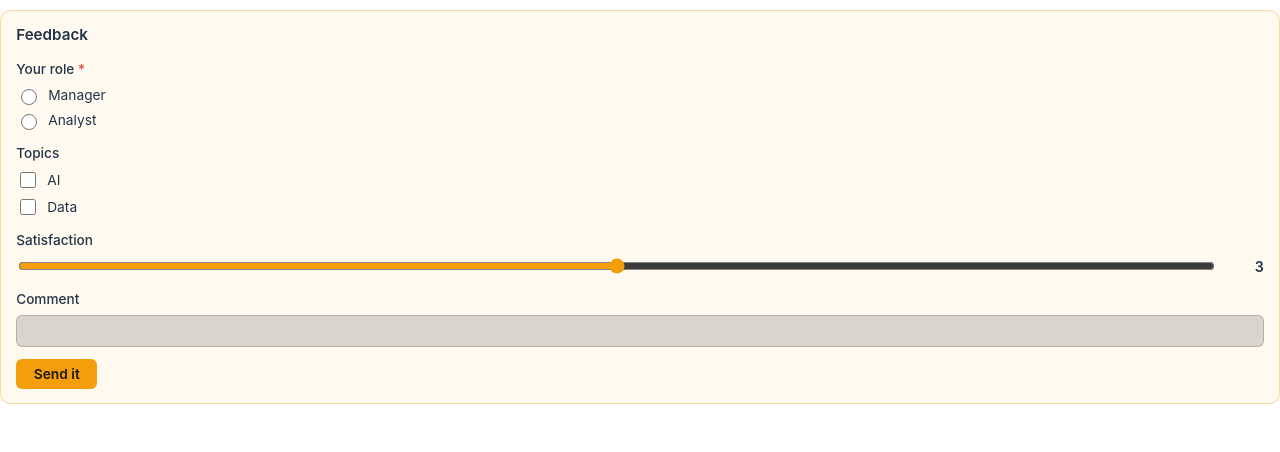
Test: CollectionForm › blocks submit and shows hint when a required field is unanswered
This screenshot has width=1280, height=452.
Click the button "Send it": [57, 374] box [16, 359, 97, 389]
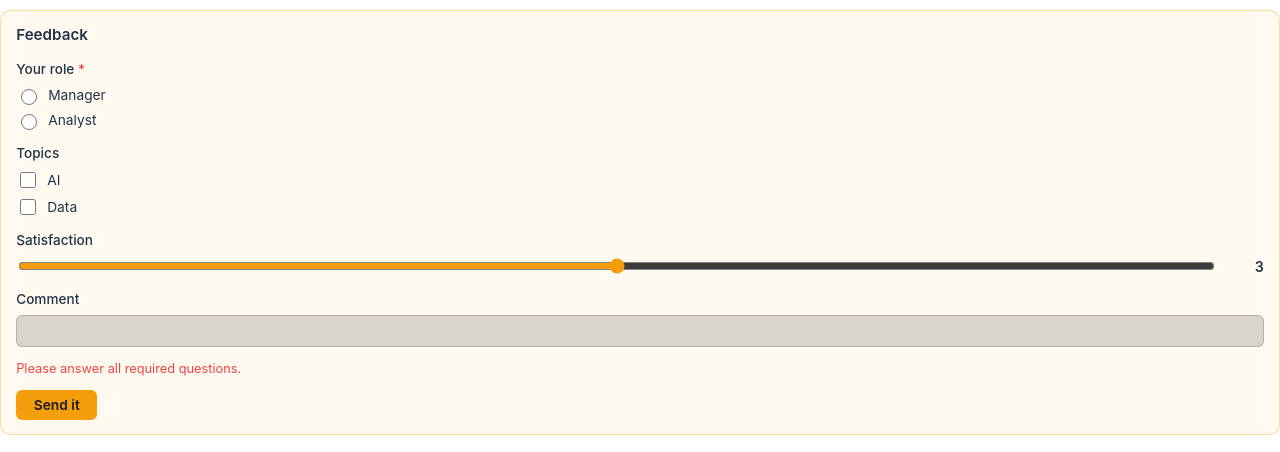
Result: the text "Please answer all required questions." is shown at [16, 361, 241, 376]
